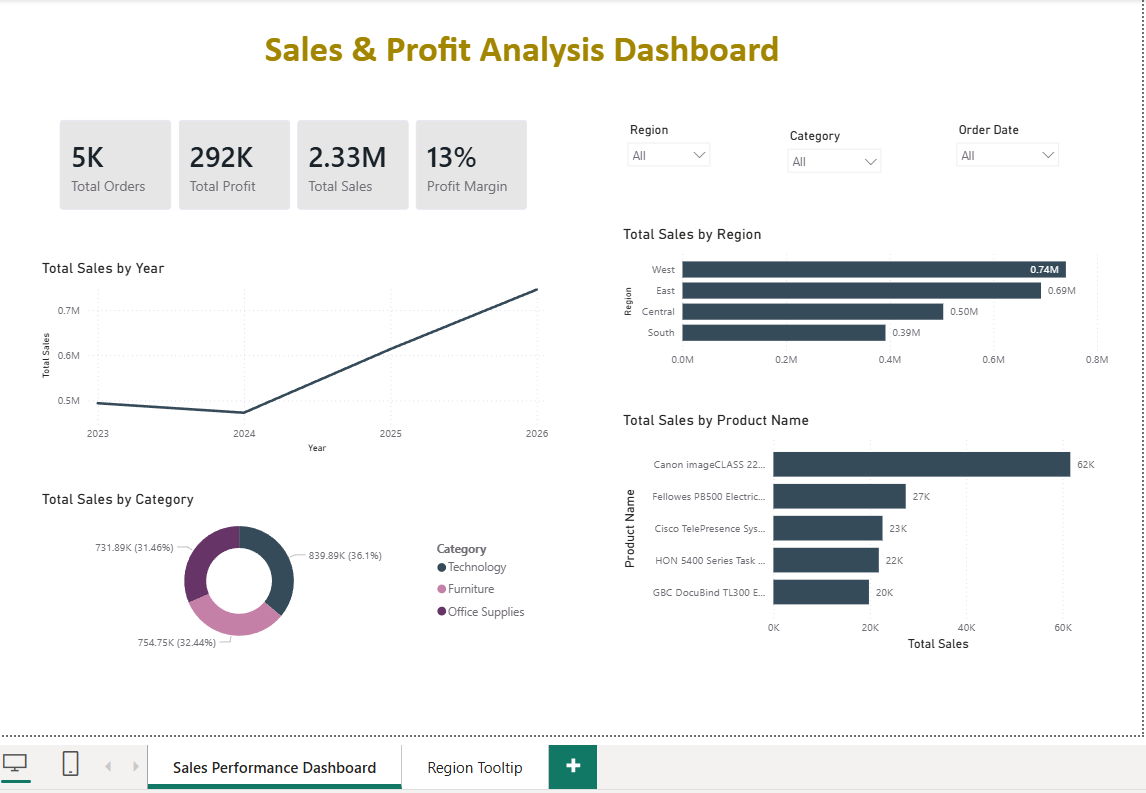

The dashboard page shown, as its layout file describes it:
{"tool":"powerbi","page":{"name":"Sales Performance Dashboard","canvas":[1318,850],"ordinal":0},"visuals":[{"type":"cardVisual","fields":{"Data":["samplesuperstore.Total Orders","samplesuperstore.Total Profit","samplesuperstore.Total Sales","samplesuperstore.Profit Margin"]},"box":[52,122.7,576,138.6],"z":0},{"type":"lineChart","fields":{"Category":["samplesuperstore.Order Date.Variation.Date Hierarchy.Year","samplesuperstore.Order Date.Variation.Date Hierarchy.Quarter","samplesuperstore.Order Date.Variation.Date Hierarchy.Month","samplesuperstore.Order Date.Variation.Date Hierarchy.Day"],"Y":["samplesuperstore.Total Sales"]},"box":[43.3,300.3,594.8,229.5],"z":1},{"type":"clusteredBarChart","fields":{"Category":["samplesuperstore.Region"],"Y":["samplesuperstore.Total Sales"]},"box":[714.6,261.3,576,173.2],"z":2},{"type":"donutChart","fields":{"Y":["samplesuperstore.Total Sales"],"Category":["samplesuperstore.Category"]},"box":[43.3,567.3,576,190.6],"z":3},{"type":"barChart","fields":{"Category":["samplesuperstore.Product Name"],"Y":["samplesuperstore.Total Sales"]},"box":[714.6,476.4,574.6,281.5],"z":4},{"type":"textbox","box":[43.9,26.1,1119.7,61.7],"z":5},{"type":"slicer","fields":{"Values":["samplesuperstore.Region"]},"box":[714.6,137.1,115.5,62.1],"z":6},{"type":"slicer","fields":{"Values":["samplesuperstore.Category"]},"box":[899.4,144.4,128.5,124.2],"z":7},{"type":"slicer","fields":{"Values":["samplesuperstore.Order Date"]},"box":[1094.3,137.1,138.6,62.1],"z":8}]}

Visuals, with their boxes on the page's 1318x850 design canvas (x1, y1, x2, y2). These are canvas units, not pixel positions in the 1146x793 screenshot, which may show the page scaled, cropped or inside an application window:
cardVisual - samplesuperstore.Total Orders x samplesuperstore.Total Profit: (x1=52, y1=123, x2=628, y2=261)
lineChart - samplesuperstore.Order Date.Variation.Date Hierarchy.Year x samplesuperstore.Order Date.Variation.Date Hierarchy.Quarter: (x1=43, y1=300, x2=638, y2=530)
clusteredBarChart - samplesuperstore.Region x samplesuperstore.Total Sales: (x1=715, y1=261, x2=1291, y2=434)
donutChart - samplesuperstore.Total Sales x samplesuperstore.Category: (x1=43, y1=567, x2=619, y2=758)
barChart - samplesuperstore.Product Name x samplesuperstore.Total Sales: (x1=715, y1=476, x2=1289, y2=758)
textbox: (x1=44, y1=26, x2=1164, y2=88)
slicer - samplesuperstore.Region: (x1=715, y1=137, x2=830, y2=199)
slicer - samplesuperstore.Category: (x1=899, y1=144, x2=1028, y2=269)
slicer - samplesuperstore.Order Date: (x1=1094, y1=137, x2=1233, y2=199)
